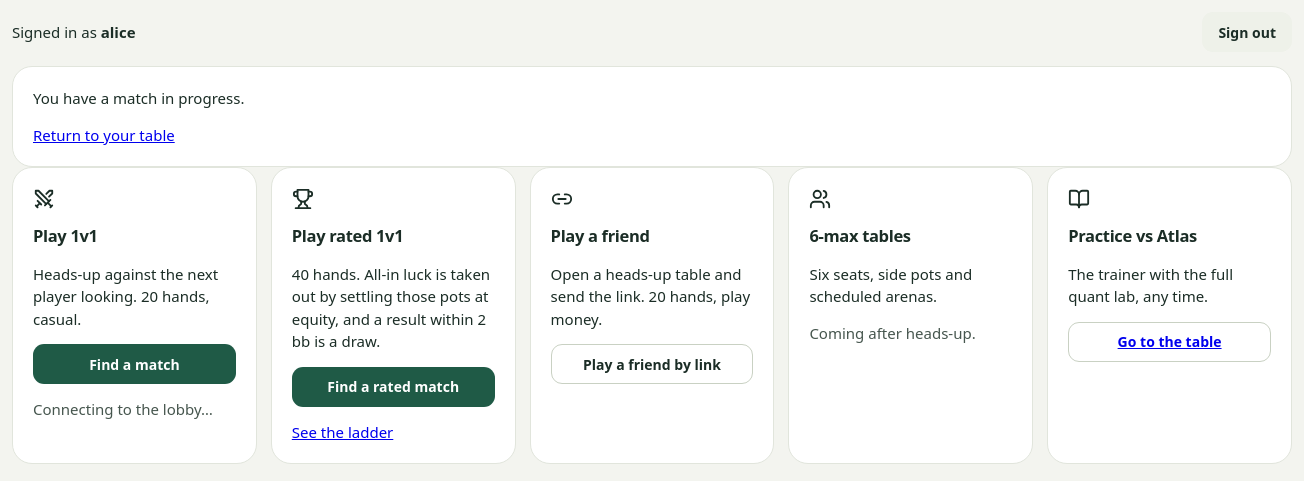
Lobby: Play 1v1 › points to the table already in play
The image size is (1304, 481).
Click the button "Play a friend by link".
click(652, 364)  # box [551, 344, 753, 384]
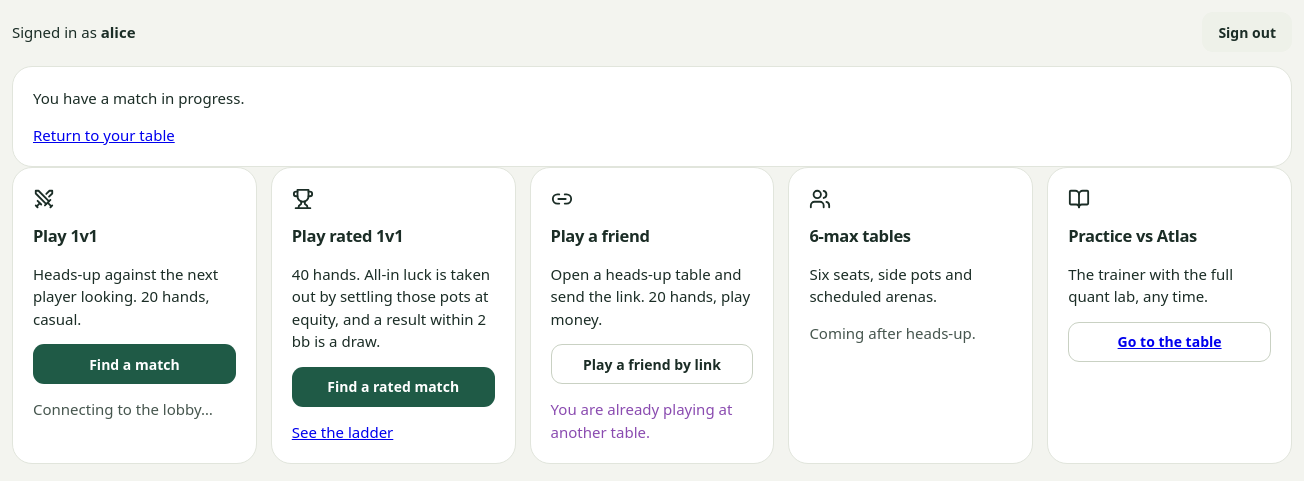
Check: the message "You are already playing at another table." is shown, box [551, 398, 753, 443]
